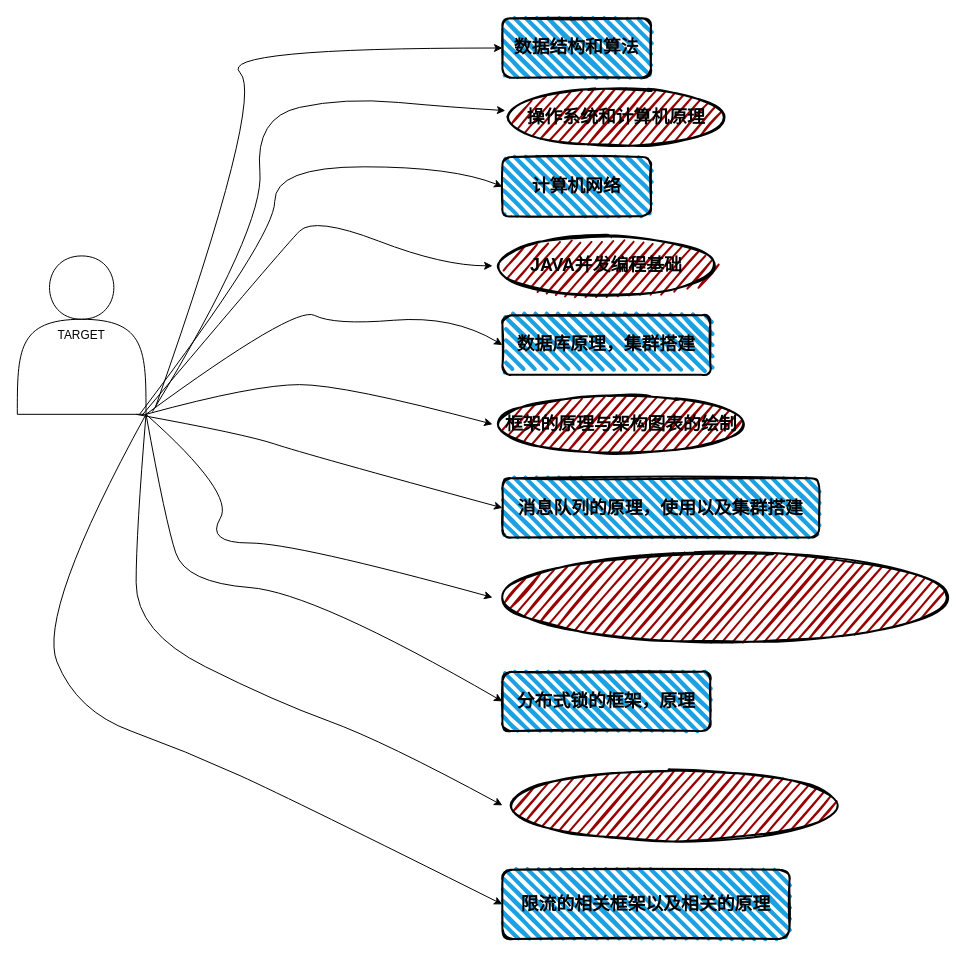
Image size: 976x956. Some labels were removed from this diagram. The centre of each missing label's shape, as x and y in pixels:
分布式事务的框架，原理以及数据库使用的分布式事务的处理方式: the point at 724,597
高并发的处理方案以及相关的框架: the point at 673,805
